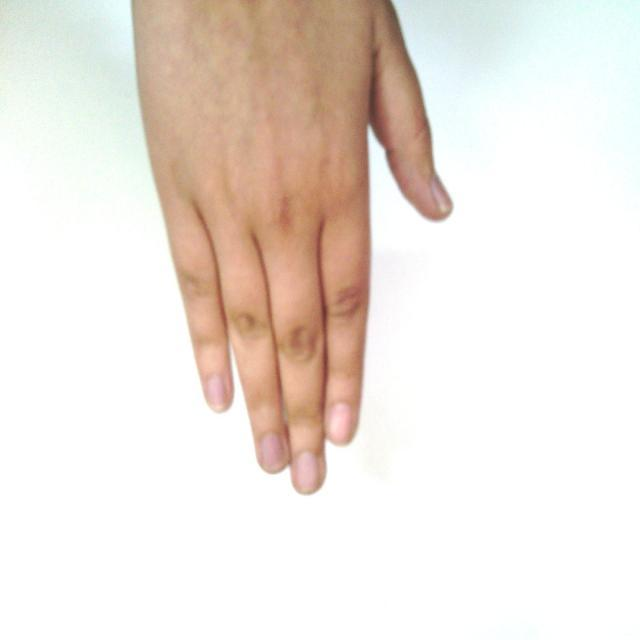Fingernail: (293, 453, 319, 494), (329, 404, 351, 444), (261, 435, 285, 470), (432, 174, 453, 214), (207, 374, 226, 409)
